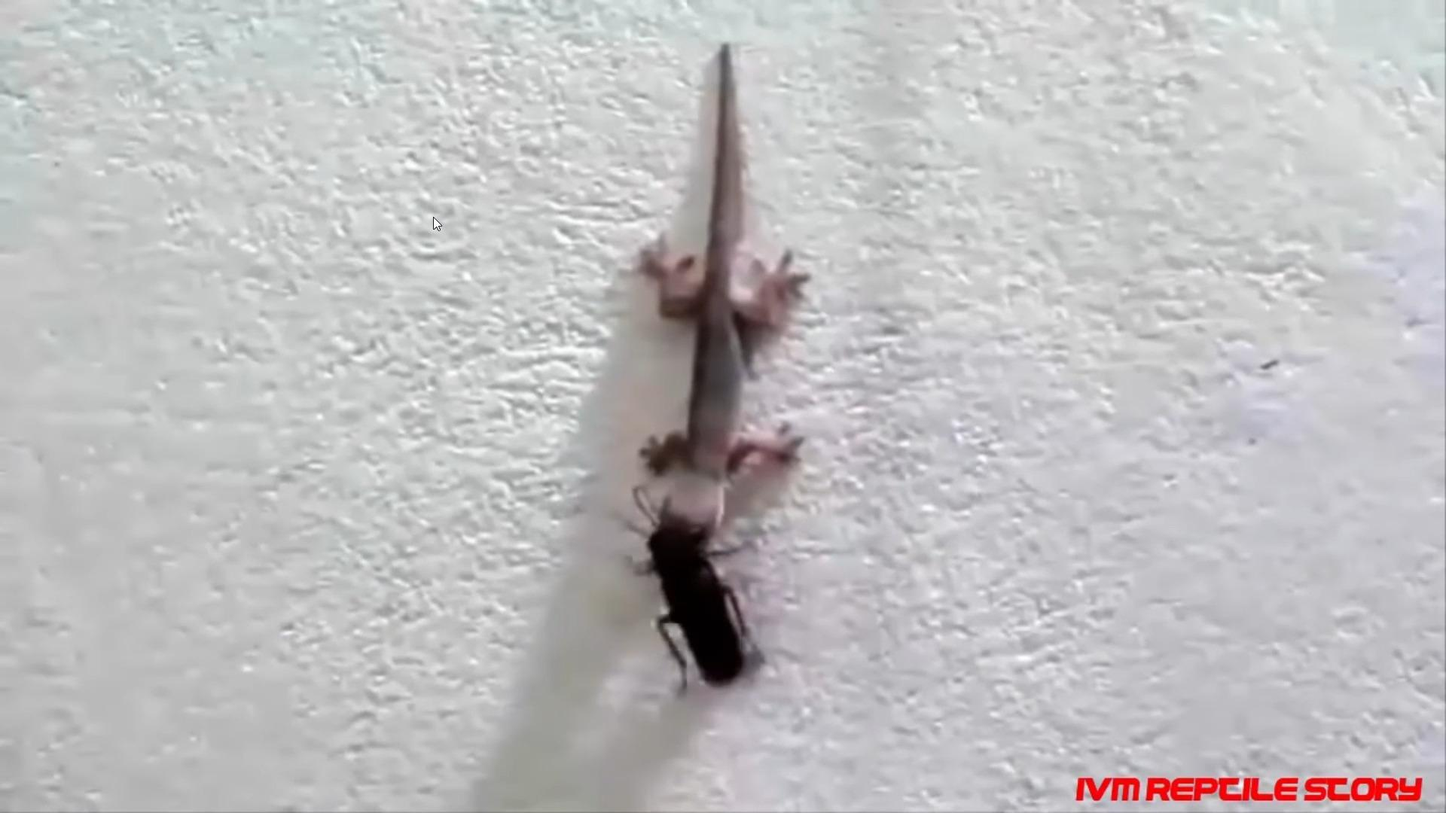cockroach: (628, 533, 760, 681)
lizard: (623, 106, 800, 531)
